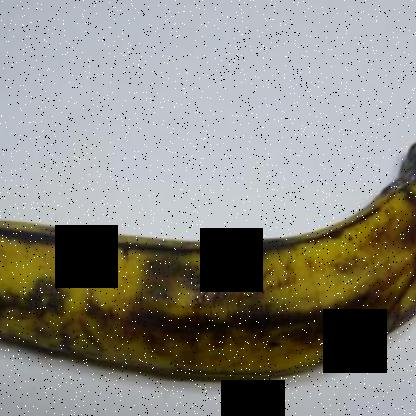overripe: (1, 127, 415, 388)
